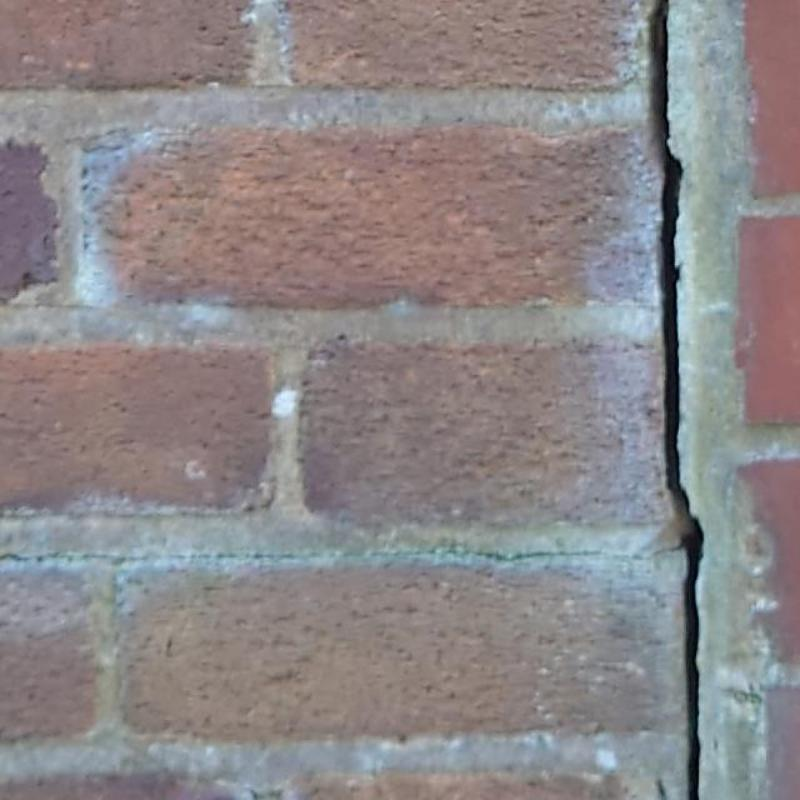pothole: (650, 0, 704, 799), (0, 544, 684, 562)
